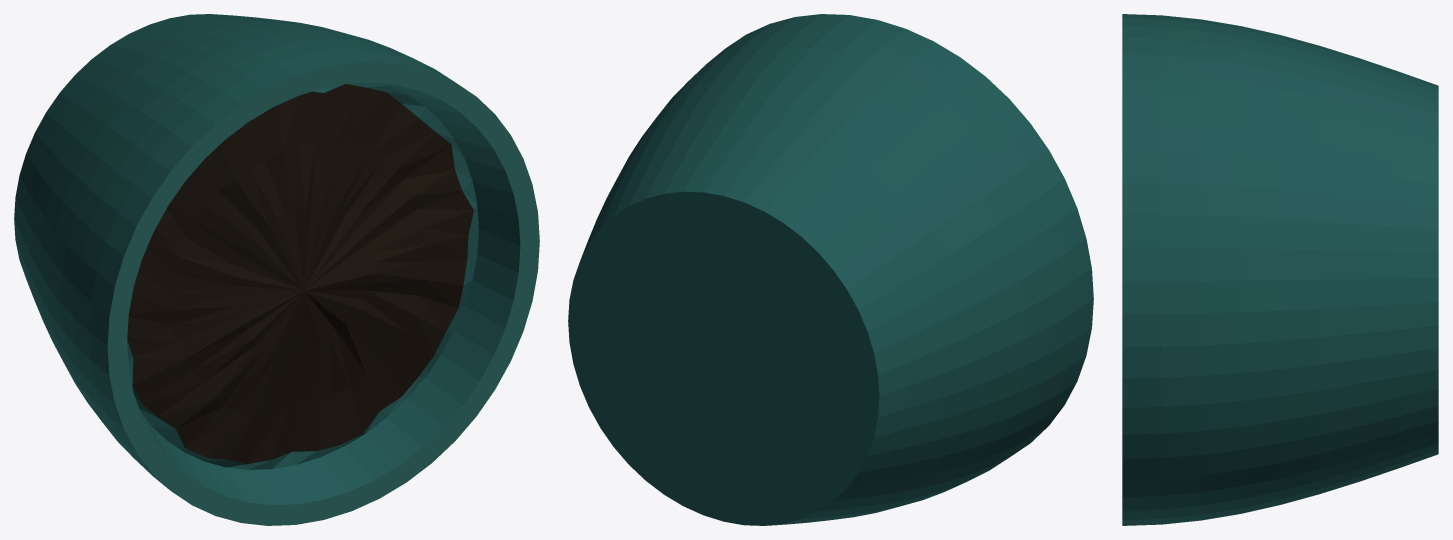
File: VD_SpecimenPlanter_Ceramic.obj
3 views of the same model, side by side, from view 1: azimuth 30°, elevation 25°; view 2: azimuth 150°, elevation 25°; view 3: azimuth 270°, elevation 25° (orthographic). The views are drawn at different scales.
Parts seen in each view (by area): view 1: VD_SpecimenPlanter_Ceramic; view 2: VD_SpecimenPlanter_Ceramic; view 3: VD_SpecimenPlanter_Ceramic.
Boxes of the visible parts, box(x1,y1,x2,y2) form: VD_SpecimenPlanter_Ceramic: box(14, 14, 539, 525); VD_SpecimenPlanter_Ceramic: box(568, 14, 1093, 525); VD_SpecimenPlanter_Ceramic: box(1122, 14, 1438, 525).
Size of the model in its own units: 188 by 188 by 116.
